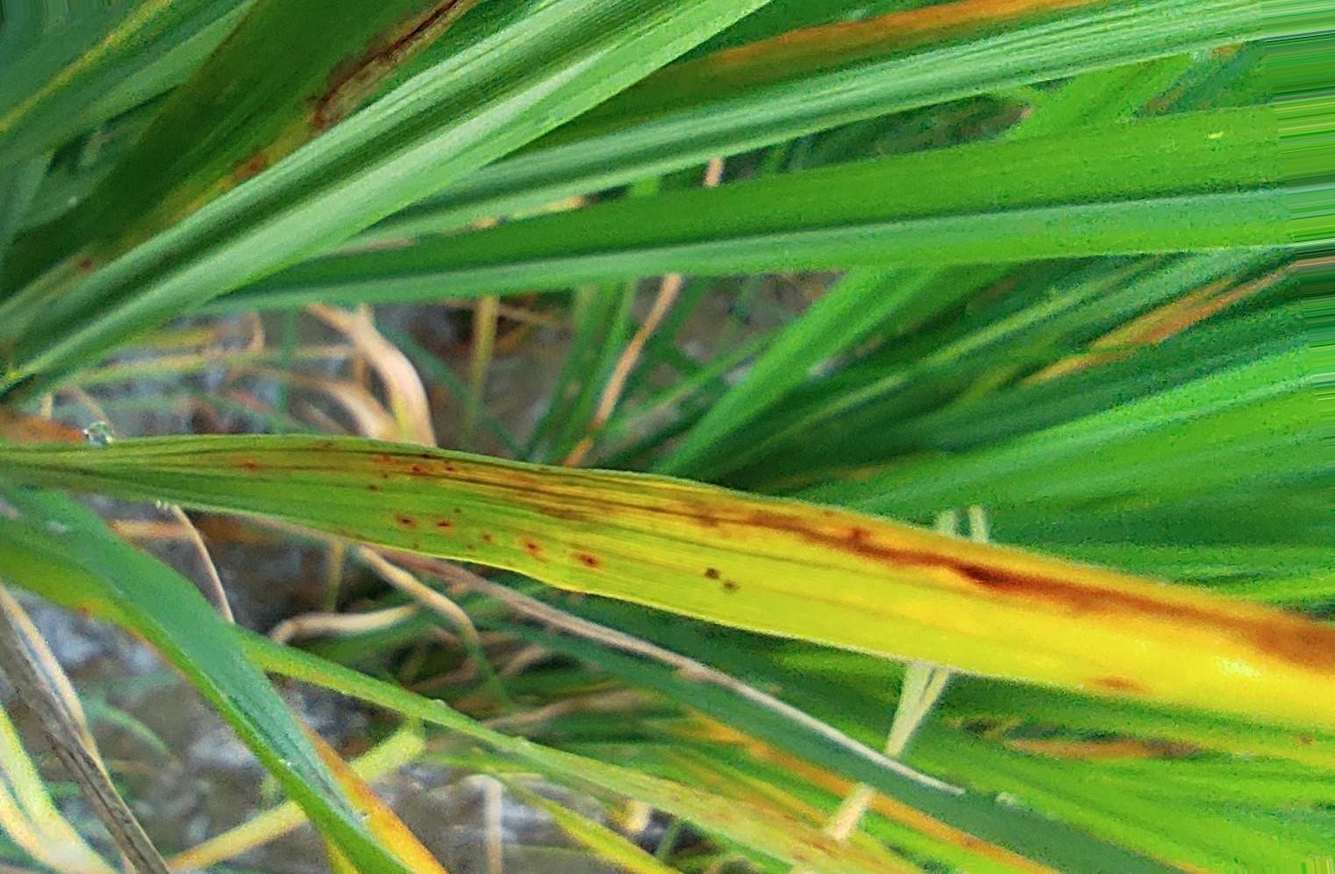LEAF: (0, 435, 1334, 726)
NBS: (517, 529, 550, 563), (426, 515, 455, 535), (395, 512, 419, 530), (482, 531, 492, 544), (453, 507, 464, 516), (411, 543, 420, 551), (465, 542, 475, 549)
